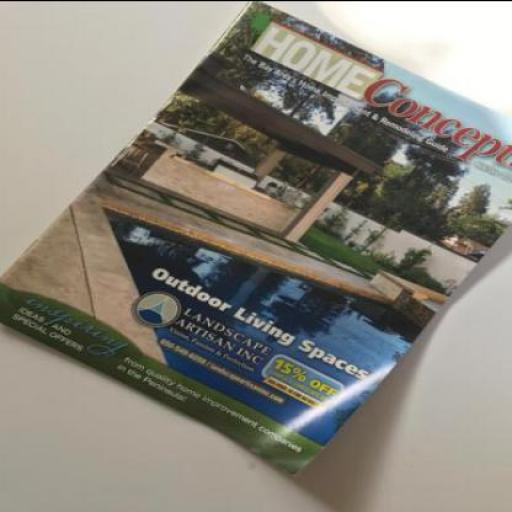paper: (1, 1, 511, 473)
